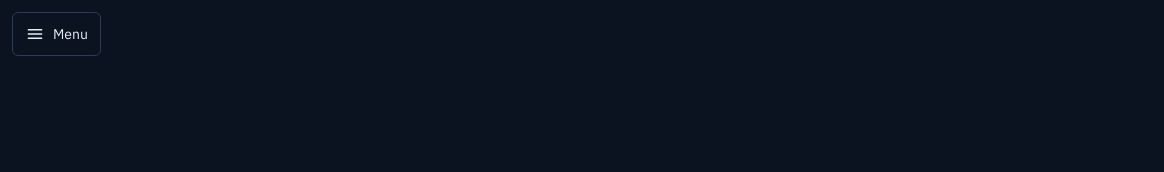
Test case: HeaderMenu › closes when clicking outside
Click the button "Menu": (56, 34) [12,12,101,56]
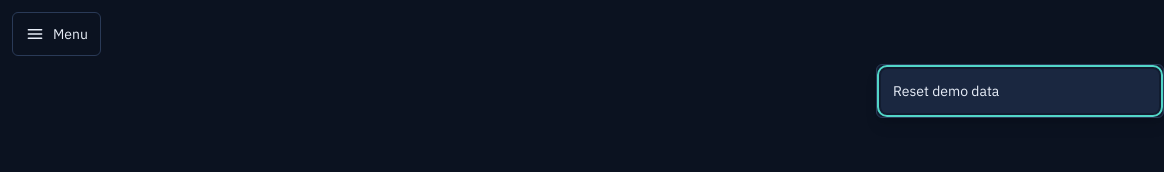
Click the element showing "Menu Reset demo data": (588, 34) [12,12,1163,56]
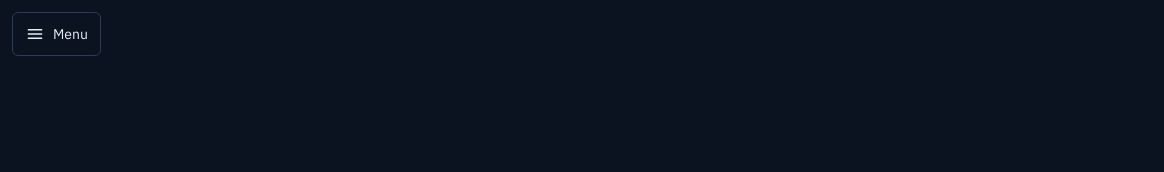
Now the menu is gone
